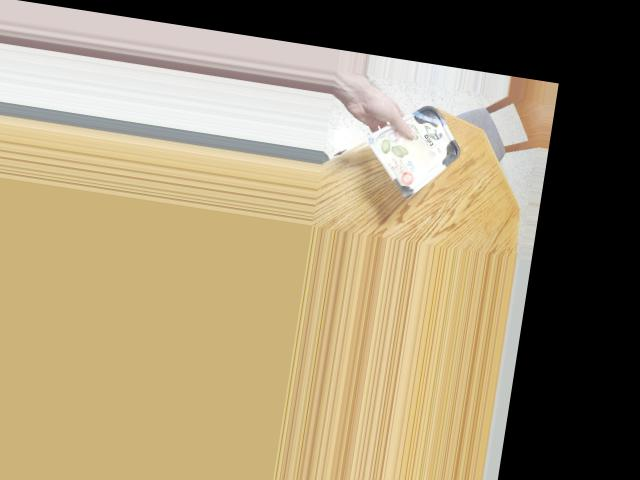cheese: (387, 106, 454, 193)
